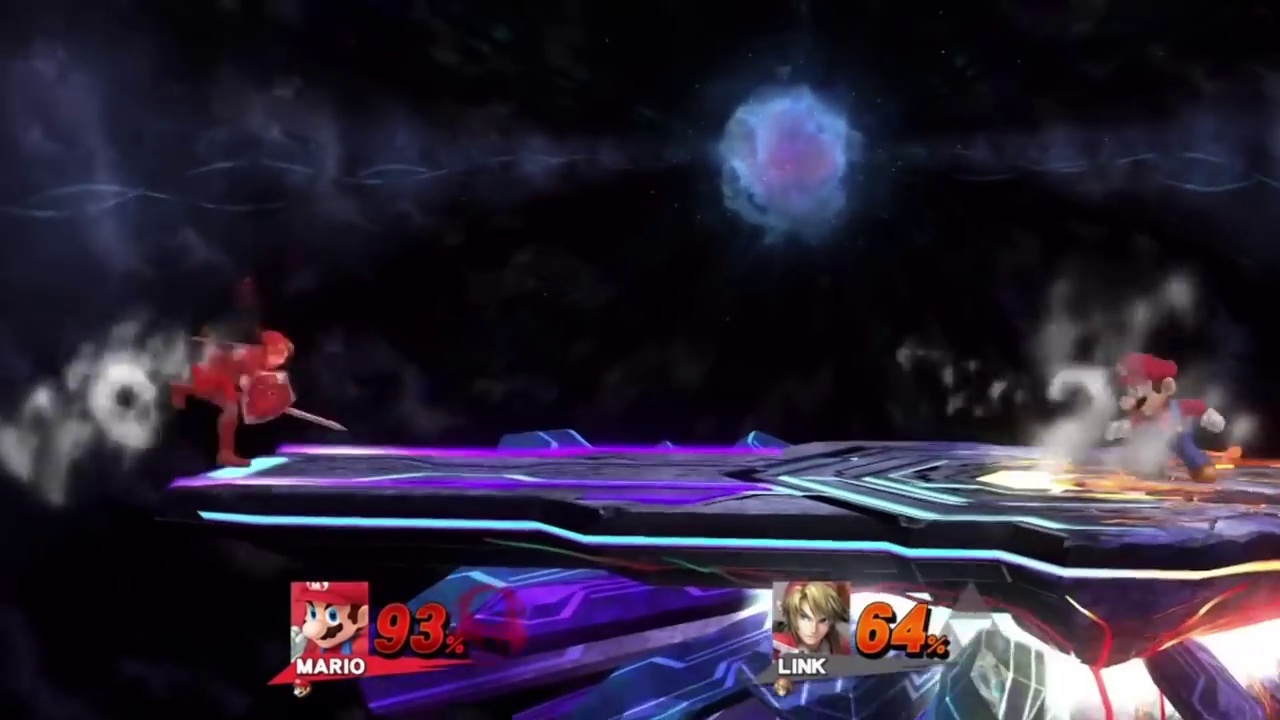Mario: (1101, 353, 1226, 490)
